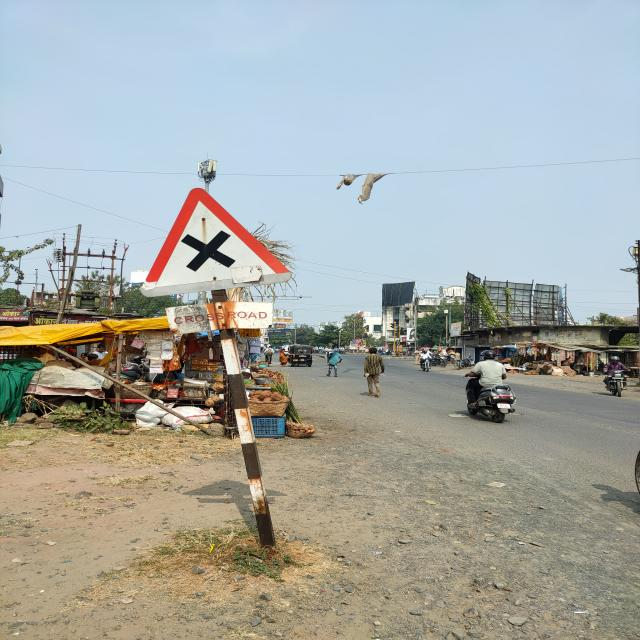CROSS_ROAD: (136, 187, 308, 300)
